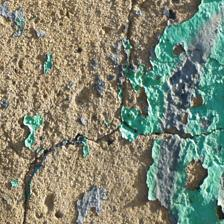Crack: (77, 0, 208, 108), (0, 0, 71, 87), (104, 43, 224, 77)
